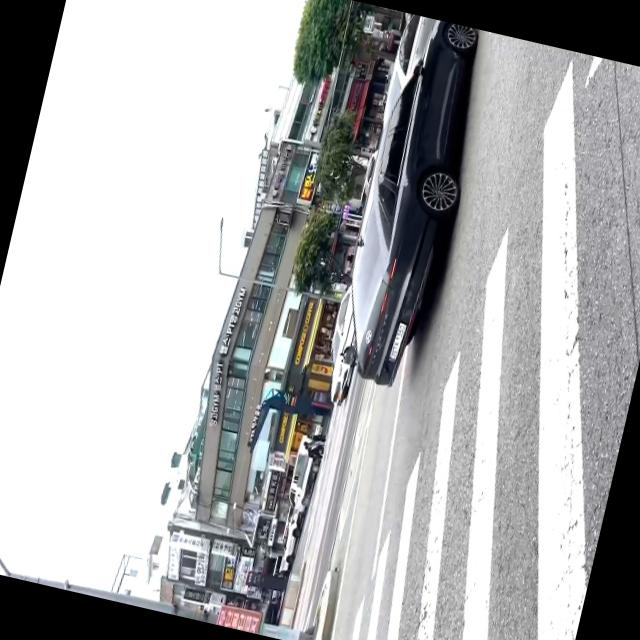building: (170, 142, 334, 548)
car: (324, 13, 497, 394), (316, 280, 372, 408)
